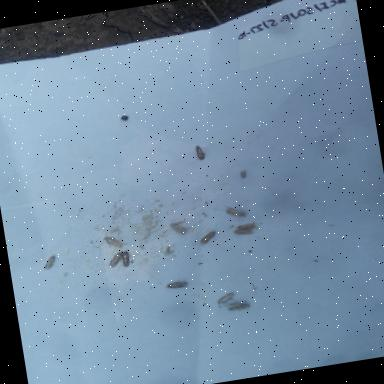pbw: (192, 226, 224, 250), (186, 141, 212, 166), (220, 200, 249, 222), (207, 286, 238, 306), (166, 217, 190, 240), (222, 298, 256, 314), (36, 252, 60, 274), (105, 248, 126, 269), (100, 233, 122, 252), (117, 246, 135, 268), (234, 220, 264, 231), (164, 277, 189, 290), (230, 225, 255, 238), (234, 168, 252, 182)
